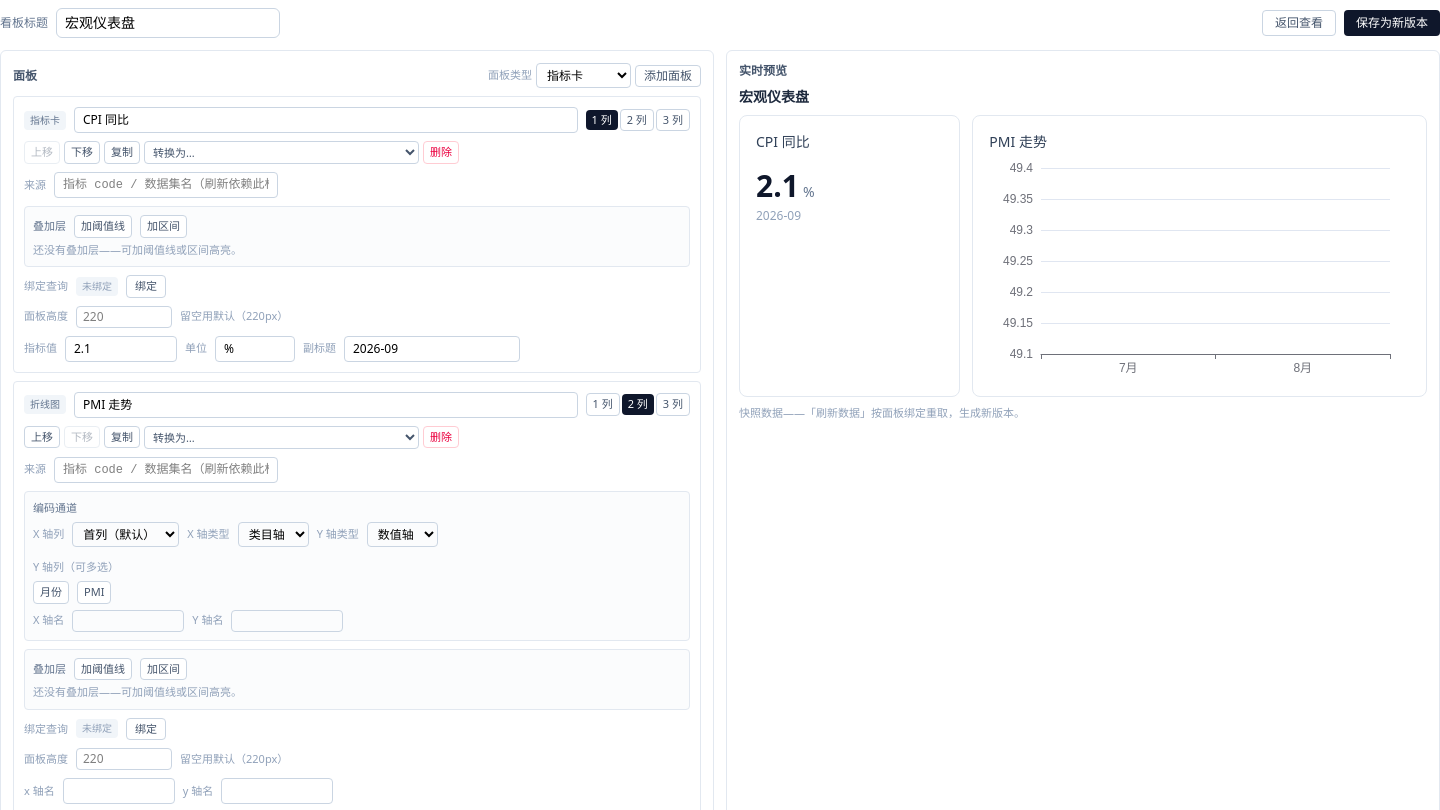
Test case: DashboardEditor v2（wire-dashboard-editor-v2 任务 1.2/1.3） › 类型互转保数据：折线→表格零损失（图表类互转不 confirm），保存后 snapshot 原样
Step 1. Select "转为数据表" in the dropdown with test id "editor-panel-convert" below "折线图" → (282,437), box x1=144 y1=426 x2=419 y2=448
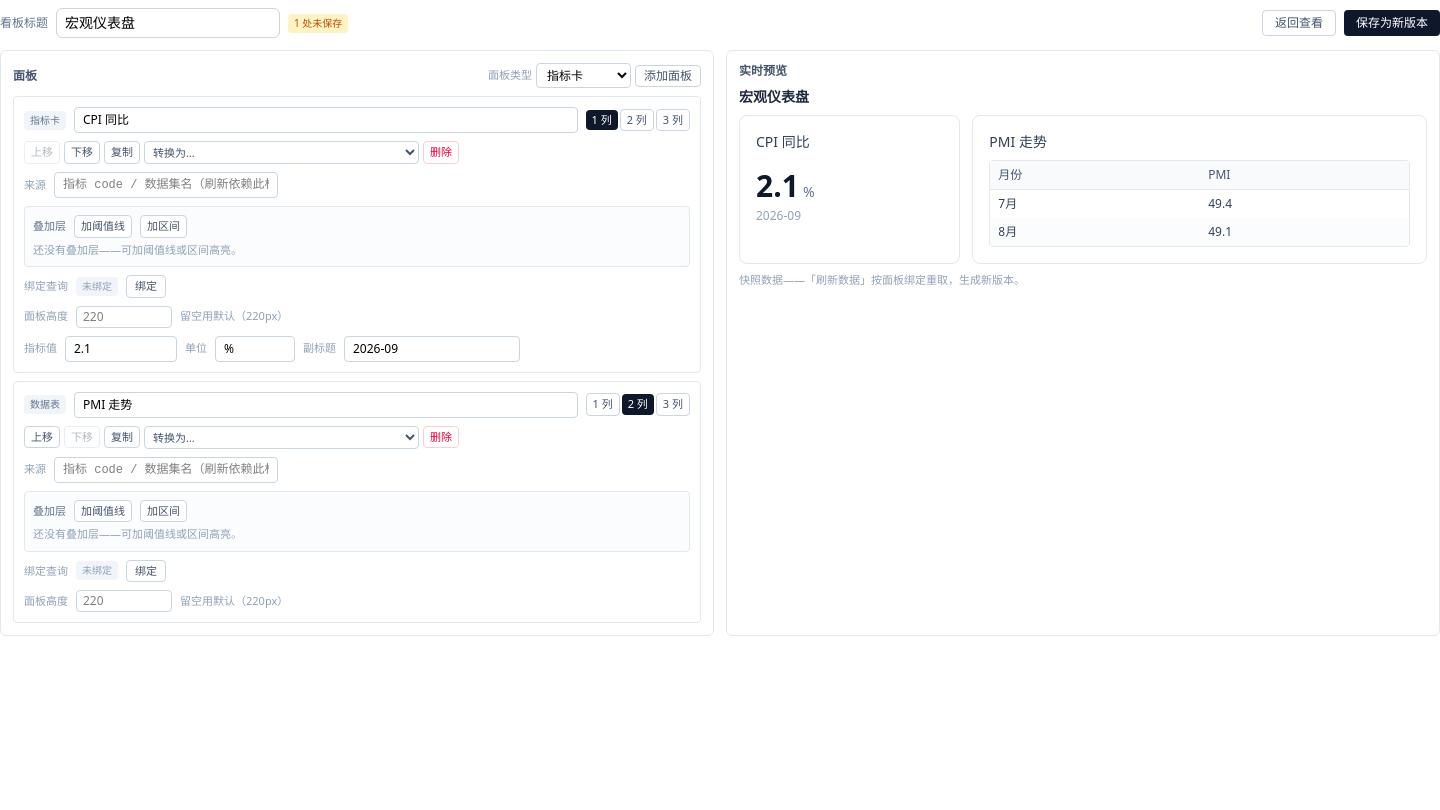
Result: the element with test id "dashboard-chart" is gone
Note: 保存：PUT 里 type 已换、snapshot 逐字保留
Step 2. Click the button with test id "editor-save" → (1392,23), box x1=1344 y1=10 x2=1439 y2=36
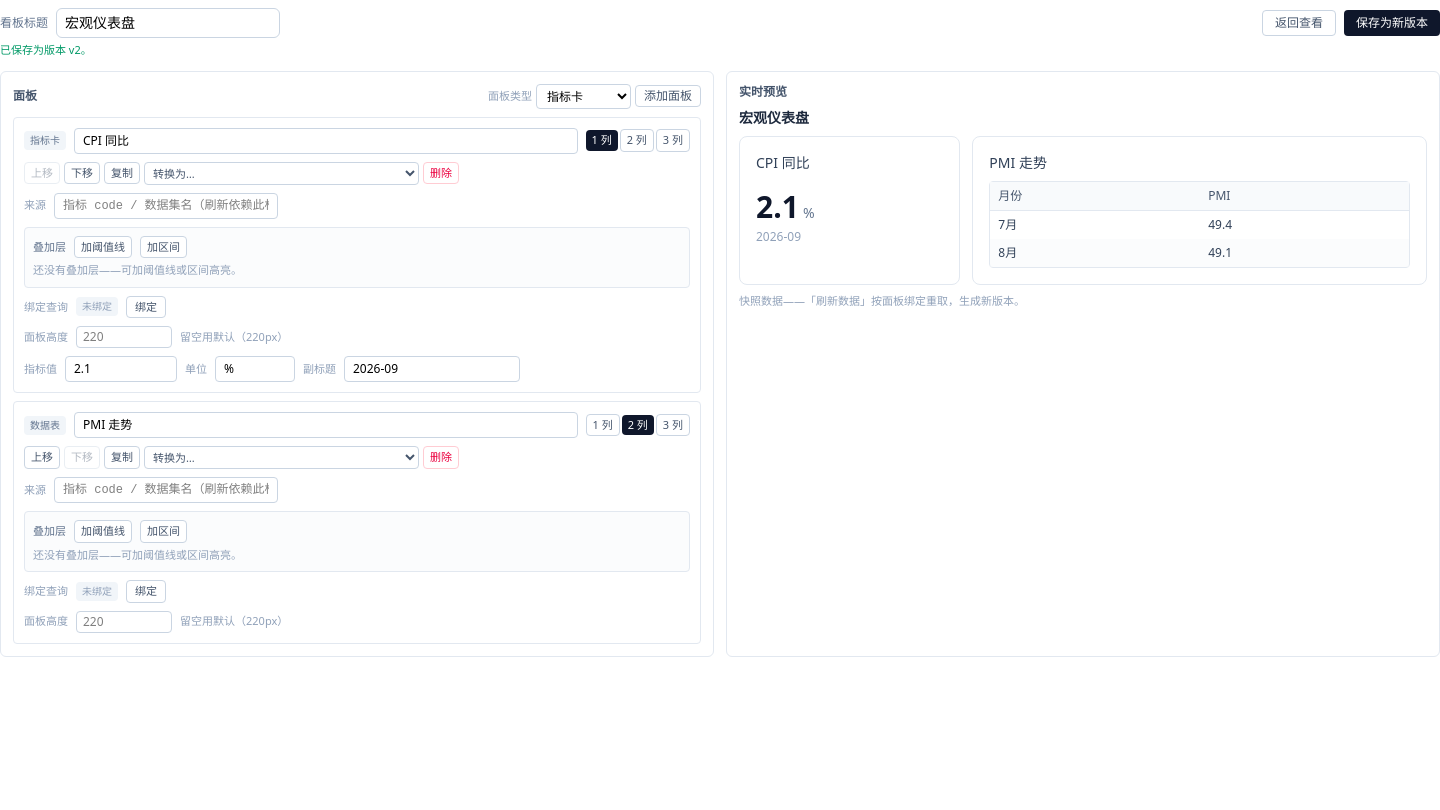
Result: the text "已保存为版本 v2。" is shown at x1=0 y1=42 x2=92 y2=57
